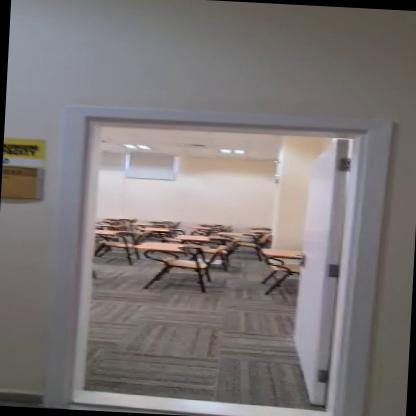open: (45, 85, 386, 416)
